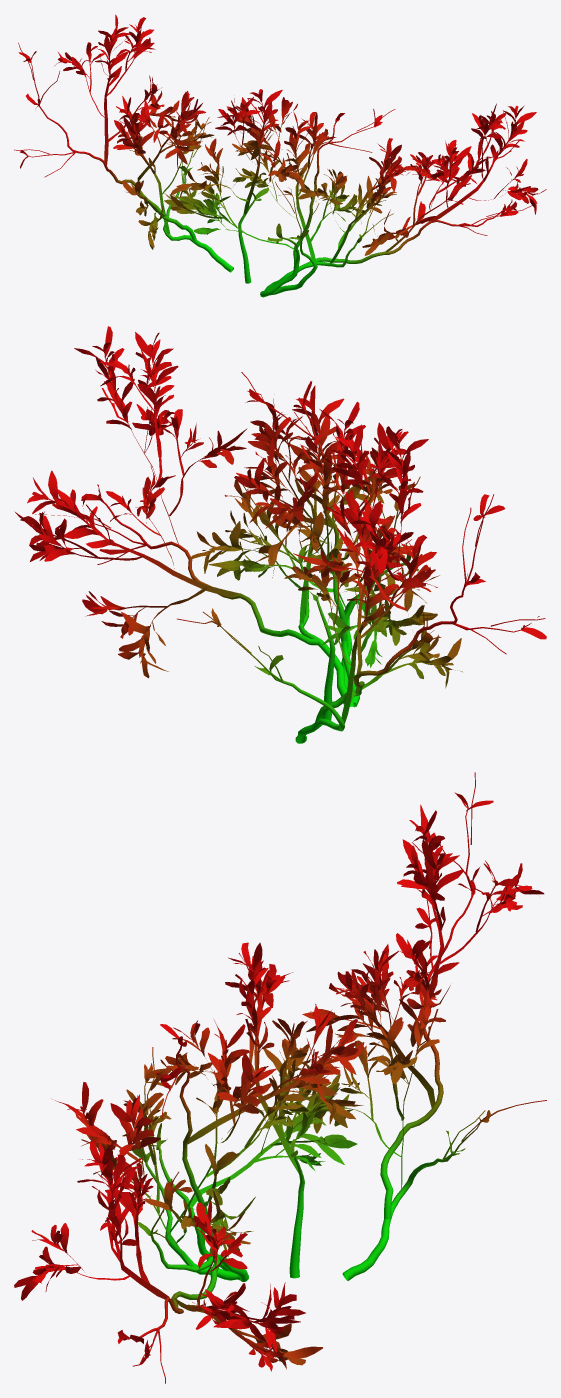
The model's file is Downy Willow_LOD2_Var17_wknlfiuqx.fbx.
3 renders of one model, top to bottom at view 1: azimuth 30°, elevation 25°; view 2: azimuth 150°, elevation 25°; view 3: azimuth 270°, elevation 25°, orthographic. The views are drawn at different scales.
Parts seen in each view (by area): view 1: _lo4w_Var17_LOD2; view 2: _lo4w_Var17_LOD2; view 3: _lo4w_Var17_LOD2.
Boxes of the visible parts, x1=… form: _lo4w_Var17_LOD2: x1=14, y1=14, x2=546, y2=297; _lo4w_Var17_LOD2: x1=14, y1=326, x2=546, y2=743; _lo4w_Var17_LOD2: x1=14, y1=772, x2=546, y2=1383.
Bounding box in the file's own units: 153 × 88.06 × 105.
